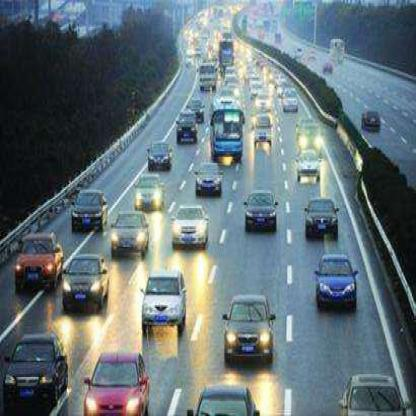other: (165, 236, 220, 287), (51, 310, 107, 339), (128, 182, 166, 215), (293, 126, 325, 153)
